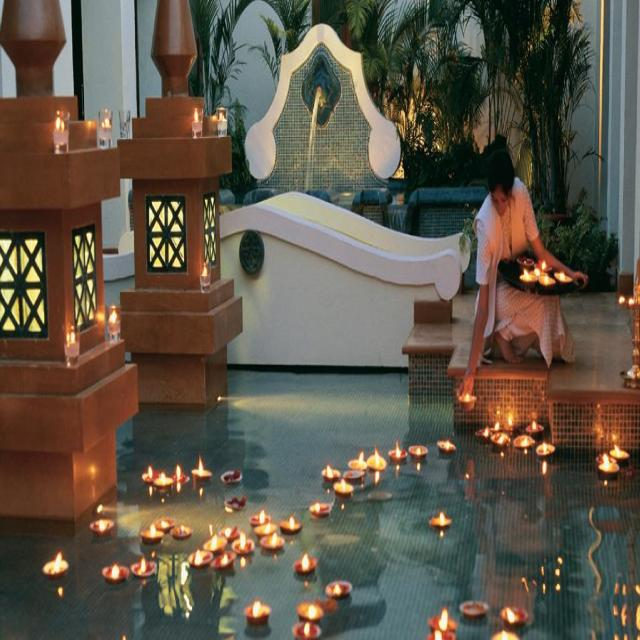nomask: (491, 186, 508, 216)
